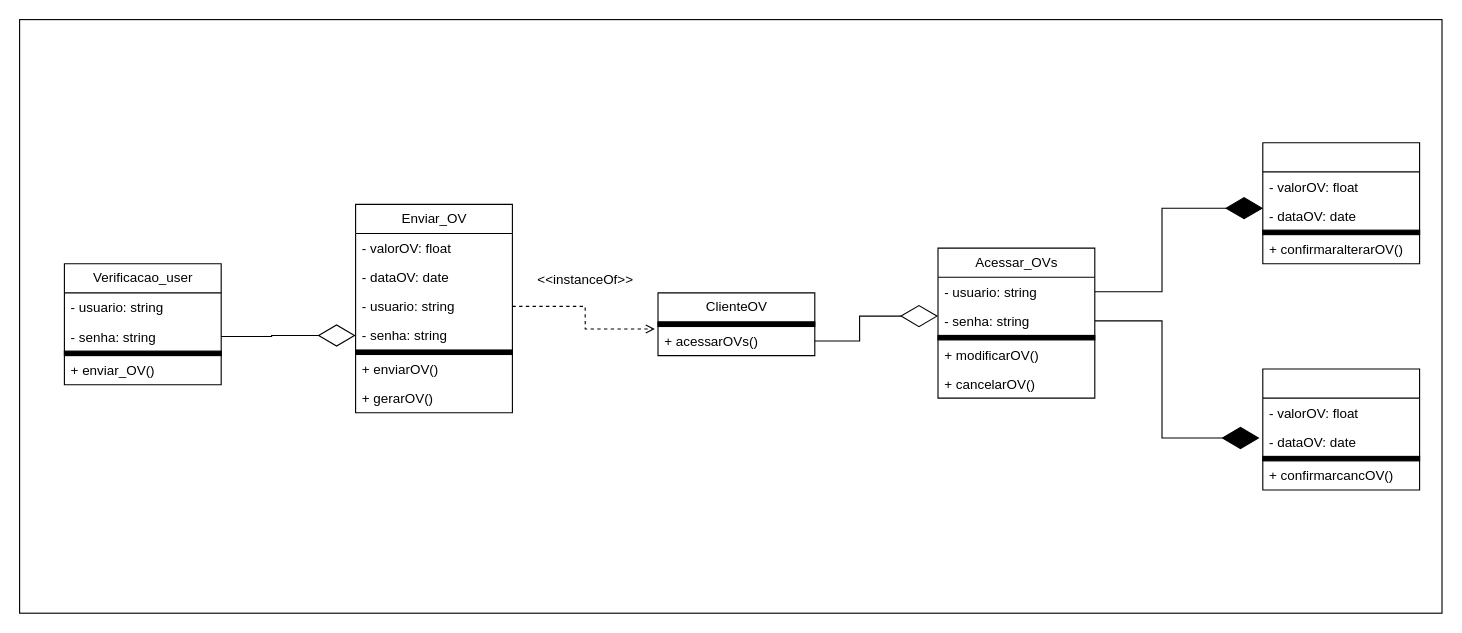
Image size: 1462x633. Some labels were removed from this diagram. Each missing label, with the box of its shape:
Cancelar_OV: (1262, 368, 1420, 490)
Modificar_OV: (1262, 142, 1420, 264)
